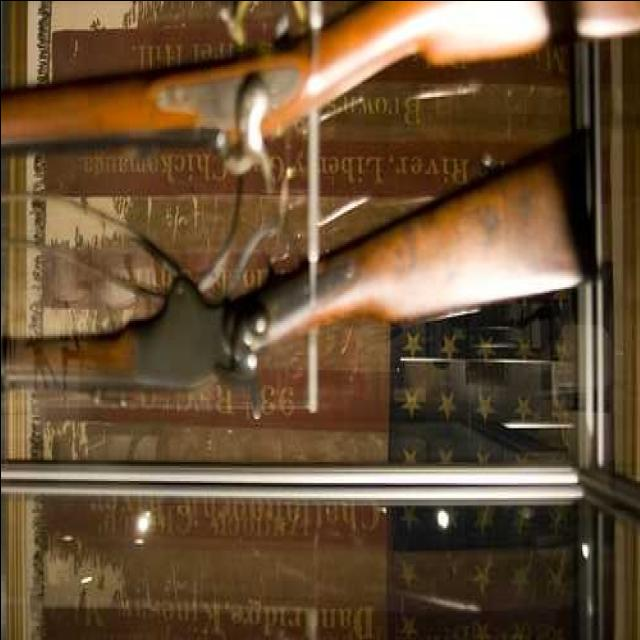heavyweapon: (1, 172, 609, 466), (1, 1, 552, 212)
